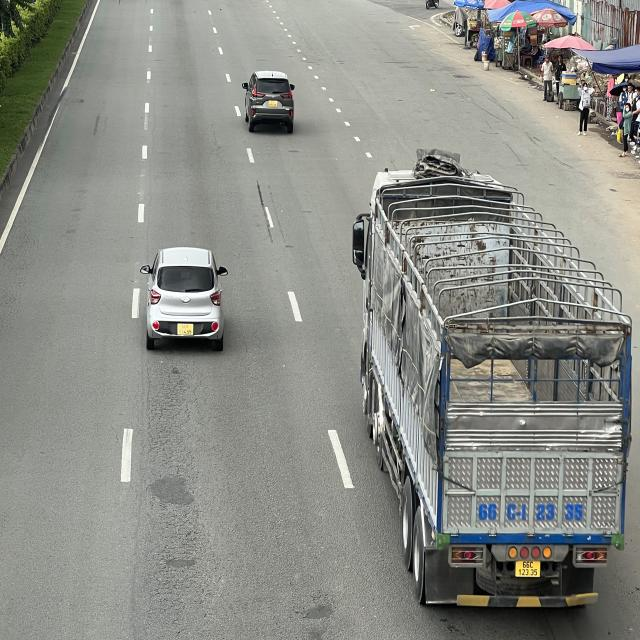car: (140, 242, 230, 349), (242, 70, 297, 136)
truck: (350, 164, 632, 610)
